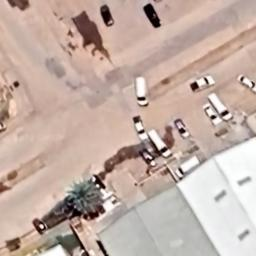pickup: (186, 74, 218, 92), (131, 114, 149, 144)
sedan: (142, 2, 164, 30), (201, 103, 222, 127), (98, 4, 116, 27), (237, 74, 256, 94), (173, 119, 192, 139)
unknown: (138, 148, 158, 168)
van: (207, 91, 235, 123), (146, 128, 174, 158), (174, 154, 202, 184), (132, 74, 152, 108)
